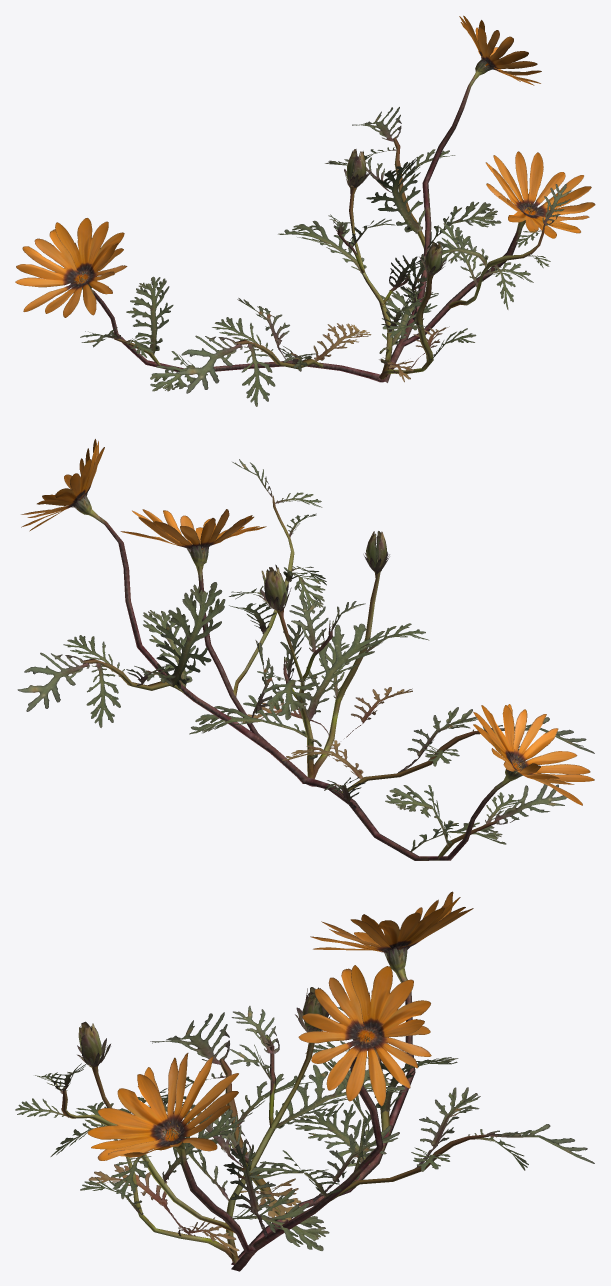
The model's file is flower_ursinia_01.glb.
3 renders of one model, top to bottom at view 1: azimuth 30°, elevation 25°; view 2: azimuth 150°, elevation 25°; view 3: azimuth 270°, elevation 25°, orthographic. The views are drawn at different scales.
Visible parts, largest first — view 1: flower_ursinia; view 2: flower_ursinia; view 3: flower_ursinia.
Part boxes in pixels (x1=…): flower_ursinia: x1=15, y1=15, x2=595, y2=406; flower_ursinia: x1=17, y1=439, x2=594, y2=860; flower_ursinia: x1=15, y1=891, x2=594, y2=1271.
Size of the model in its own units: 0.261 by 0.1496 by 0.1986.
1 material, 1 textured.
